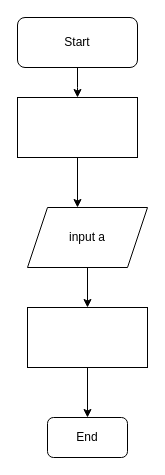
Image size: 165x475. Some labels were removed from this diagram. Each missing label, with the centre of its shape:
"a mapped to b" goes at (77,127).
"display b" goes at (87,337).
